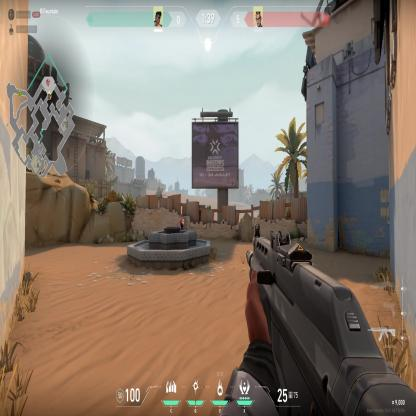enemy: (178, 212, 185, 231)
